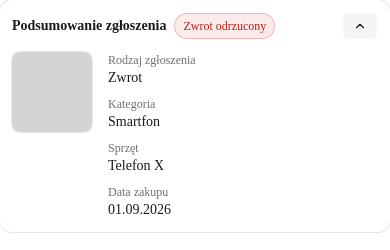
CaseSummaryCard (AC-29) › has a collapse control for mobile viewports
The width and height of the screenshot is (390, 250).
Click the button named "Szczegóły zgłoszenia": (360, 26) [342,12,378,40]
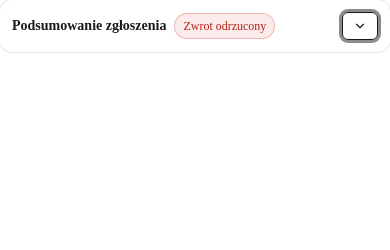
expect the button named "Szczegóły zgłoszenia" is collapsed: met, box [342,12,378,40]
